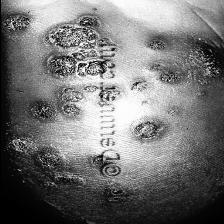Toxin: (40, 15, 108, 78), (128, 120, 164, 144), (60, 104, 82, 118)
